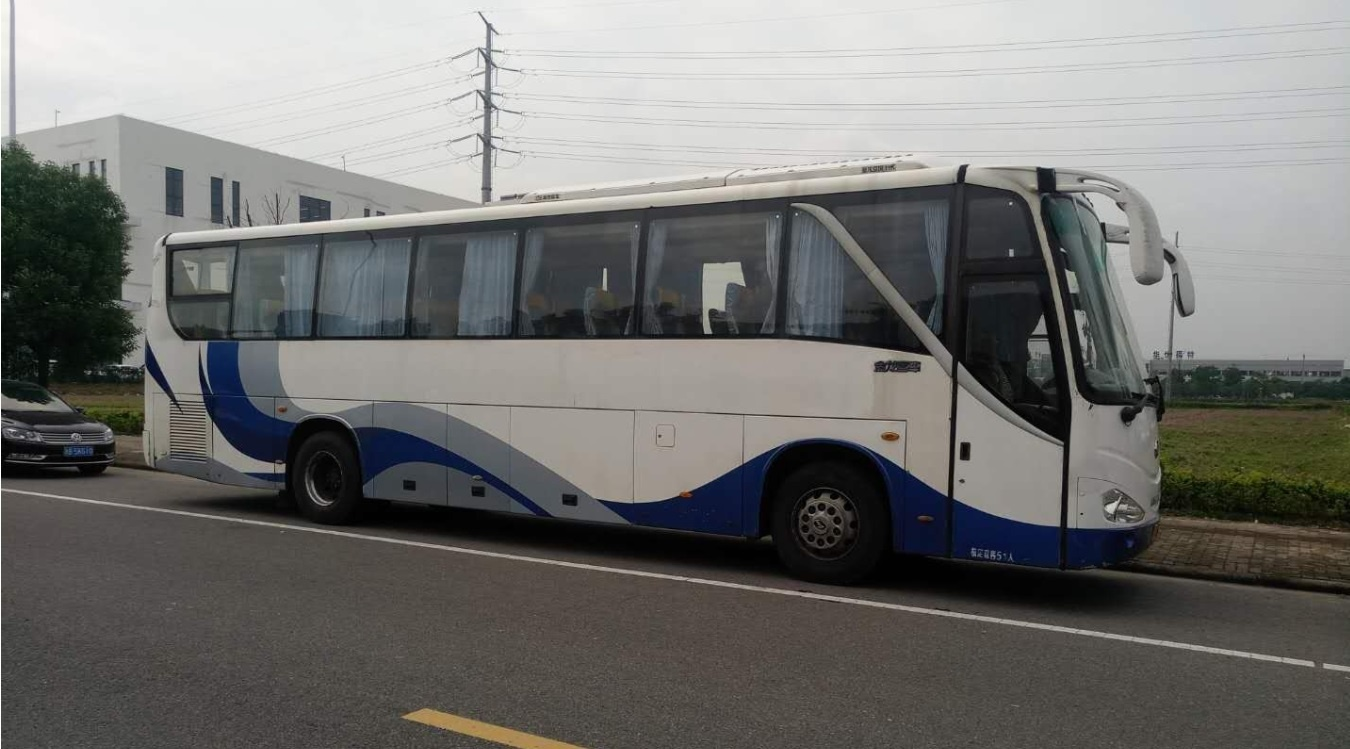bus: (124, 177, 1201, 579)
